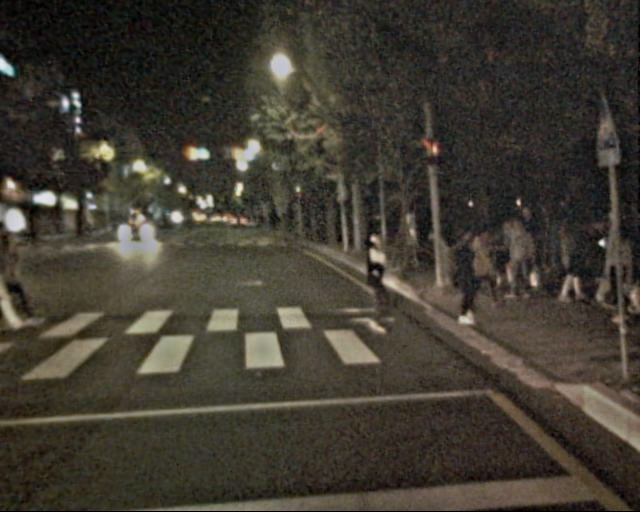person: (463, 207, 539, 329), (349, 228, 395, 340), (1, 223, 47, 329), (599, 223, 640, 325), (543, 209, 581, 301), (554, 223, 588, 306)
